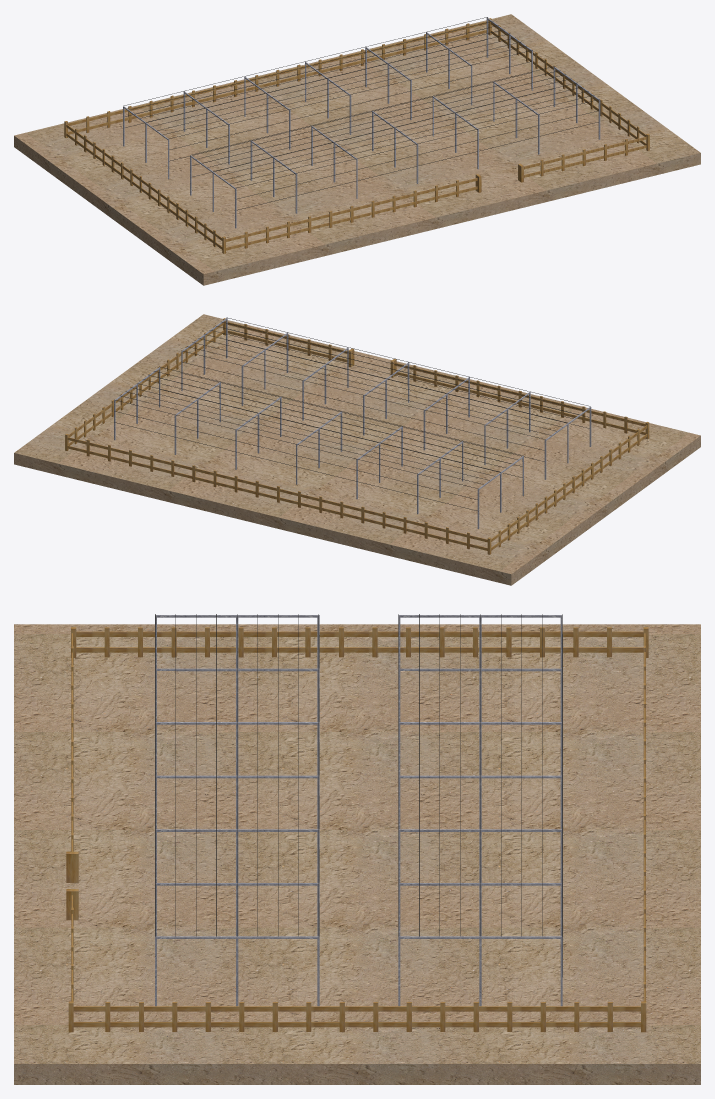
3 renders of one model, top to bottom at view 1: azimuth 30°, elevation 25°; view 2: azimuth 150°, elevation 25°; view 3: azimuth 270°, elevation 25°, orthographic. The views are drawn at different scales.
Visible parts, largest first — view 1: cj01_dimian, cj01_ts, cj01_jia02, cj01_jia01, jc01_jia03; view 2: cj01_dimian, cj01_ts, cj01_jia02, cj01_jia01, jc01_jia03; view 3: cj01_dimian, cj01_jia01, cj01_ts, cj01_jia02, jc01_jia03.
Part boxes in pixels (x1=…): cj01_dimian: x1=14, y1=14, x2=700, y2=285; cj01_ts: x1=123, y1=17, x2=599, y2=210; cj01_jia02: x1=183, y1=17, x2=600, y2=213; cj01_jia01: x1=123, y1=17, x2=599, y2=188; jc01_jia03: x1=123, y1=106, x2=236, y2=228; cj01_dimian: x1=14, y1=314, x2=700, y2=585; cj01_ts: x1=114, y1=317, x2=590, y2=511; cj01_jia02: x1=114, y1=318, x2=530, y2=514; cj01_jia01: x1=115, y1=318, x2=590, y2=489; jc01_jia03: x1=477, y1=407, x2=591, y2=528; cj01_dimian: x1=14, y1=624, x2=700, y2=1084; cj01_jia01: x1=155, y1=615, x2=561, y2=938; cj01_ts: x1=155, y1=614, x2=562, y2=977; cj01_jia02: x1=155, y1=668, x2=562, y2=1006; jc01_jia03: x1=155, y1=615, x2=562, y2=668.
Bounding box in the file's own units: 1261 × 126 × 832.
